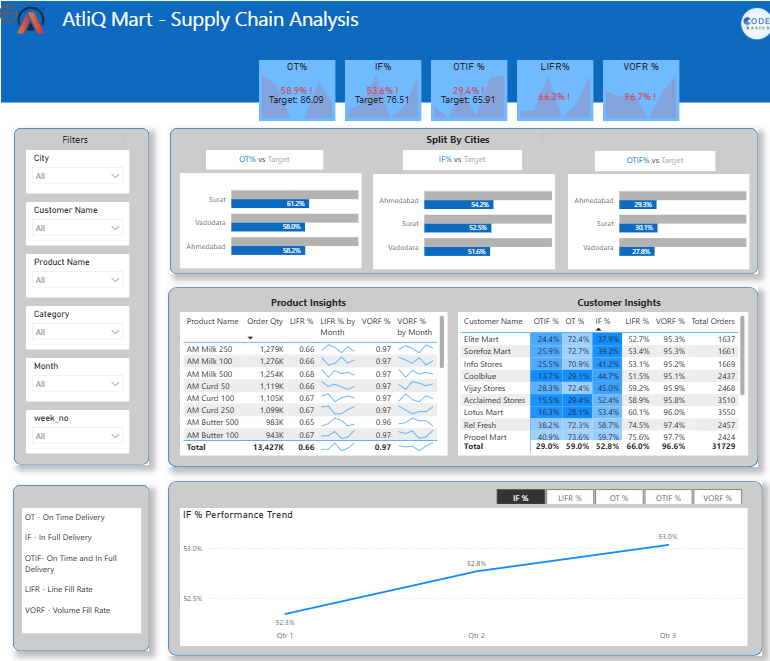

The dashboard page shown, as its layout file describes it:
{"tool":"powerbi","page":{"name":"Page 1","canvas":[1280,1080],"ordinal":0},"visuals":[{"type":"shape","box":[8.9,0,1271.1,165.8],"z":0},{"type":"shape","box":[285,208.5,962.2,239.3],"z":1000},{"type":"shape","box":[29.8,208.5,221.4,551.1],"z":2000},{"type":"shape","box":[281,467.7,966.2,294.9],"z":3000},{"type":"shape","box":[281,785.5,973.2,286],"z":4000},{"type":"actionButton","box":[0,0,100,40],"z":5000},{"type":"kpi","title":"IF%","fields":{"Indicator":["measures (2).In_Full_Order %"],"Goal":["measures (2).In_Full_Order_Target %"],"TrendLine":["dim_date.mmm_yy"]},"box":[570.8,97.3,125,100],"z":6000},{"type":"kpi","title":"OT%","fields":{"Indicator":["measures (2).On_Time_Orders %"],"Goal":["measures (2).On_Time_Order_Target %"],"TrendLine":["dim_date.mmm_yy"]},"box":[430,96.3,125.1,100.3],"z":7000},{"type":"kpi","title":"OTIF % ","fields":{"Indicator":["measures (2).OTIF %"],"Goal":["measures (2).OTIF_Target%"],"TrendLine":["dim_date.mmm_yy"]},"box":[711.6,97.3,125,100],"z":8000},{"type":"kpi","title":"LIFR%","fields":{"Indicator":["measures (2).Line_Fill_Rate%"],"Goal":["Sum(dim_targets_orders.infull_target%)"],"TrendLine":["dim_date.mmm_yy"]},"box":[852.3,97.3,125,100],"z":9000},{"type":"kpi","title":"VOFR %","fields":{"Indicator":["measures (2).Volume_Fill_Rate%"],"Goal":["measures (2).Total_Order_Qty"],"TrendLine":["dim_date.mmm_yy"]},"box":[993,97.3,125,100.3],"z":10000},{"type":"slicer","fields":{"Values":["dim_customers.city"]},"box":[49.7,243.3,168.8,71.5],"z":11000},{"type":"slicer","fields":{"Values":["dim_customers.customer_name"]},"box":[49.7,328.7,168.8,71.5],"z":12000},{"type":"clusteredBarChart","title":"OT% VS Target","fields":{"Category":["dim_customers.city"],"Y":["measures (2).On_Time_Order_Target %","measures (2).On_Time_Orders %"]},"box":[300.9,282,297,156],"z":13000},{"type":"textbox","box":[343.6,243.6,191.7,31.8],"z":14000,"group":"g1"},{"type":"tableEx","fields":{"Values":["dim_products.product_name","Sum(fact_order_lines.order_qty)","measures (2).Line_Fill_Rate%","SparklineData(measures (2).LIFR %_[dim_date.date.Variation.Date Hierarchy.Month])","measures (2).Volume_Fill_Rate%","SparklineData(measures (2).VORF %_[dim_date.date.Variation.Date Hierarchy.Month])"]},"box":[300.9,508.4,437.9,235.3],"z":14000},{"type":"clusteredBarChart","title":"IF% VS Target","fields":{"Category":["dim_customers.city"],"Y":["measures (2).In_Full_Order_Target %","measures (2).In_Full_Order %"]},"box":[617.7,282.9,297.9,156],"z":15000,"group":"g1"},{"type":"textbox","box":[432,477.6,157.9,30.8],"z":15000},{"type":"textbox","box":[666.3,243.6,194.6,32.8],"z":16000,"group":"g1"},{"type":"pivotTable","fields":{"Rows":["dim_customers.customer_name"],"Values":["measures (2).OTIF %","measures (2).OT %","measures (2).IF %","measures (2).LIFR %","measures (2).VORF %","measures (2).Total Orders"]},"box":[755.7,508.4,474.7,235.3],"z":16000},{"type":"clusteredBarChart","title":"IF% VS Target","fields":{"Category":["dim_customers.city"],"Y":["measures (2).OTIF_Target%","measures (2).OTIF %"]},"box":[935.9,283.7,296.9,155.9],"z":17000,"group":"g1"},{"type":"textbox","box":[942.4,477.6,153.9,30.8],"z":17000},{"type":"textbox","box":[979.5,245,196.6,32.8],"z":18000,"group":"g1"},{"type":"lineChart","fields":{"Category":["dim_date.date.Variation.Date Hierarchy.Quarter"],"Y":["measures (2).Selected KPI"],"Series":["KPI Table.Metric"]},"box":[300.9,829.2,929.5,226.4],"z":18000},{"type":"slicer","fields":{"Values":["KPI Table.Metric"]},"box":[794.4,791.4,450.8,30.8],"z":19000},{"type":"slicer","fields":{"Values":["dim_products.product_name"]},"box":[49.7,414.1,168.8,71],"z":20000},{"type":"group","id":"g1","title":"Group 1","box":[343.6,243.6,889.2,196],"z":21000},{"type":"textbox","box":[100.3,2,502.5,59.6],"z":22000},{"type":"textbox","box":[49.7,211.5,168.8,28.8],"z":23000},{"type":"slicer","fields":{"Values":["dim_date.mmm_yy.Variation.Date Hierarchy.Month"]},"box":[49.7,584.4,168.8,71],"z":24000},{"type":"slicer","fields":{"Values":["dim_date.week_no"]},"box":[49.7,669.3,168.8,71],"z":25000},{"type":"image","box":[29.8,2,55.6,59.6],"z":26000},{"type":"image","box":[1211.5,2,68.5,70.5],"z":27000},{"type":"shape","box":[27.8,791.4,223.4,272.1],"z":28000},{"type":"textbox","box":[42.7,829.2,194.6,204.6],"z":29000},{"type":"textbox","box":[617.7,211.5,286,28.8],"z":30000},{"type":"slicer","fields":{"Values":["dim_products.category"]},"box":[49.7,499,168.8,71.5],"z":31000}]}

Visuals, with their boxes in screenshot pixels (x1, y1, x2, y2), scaled from the page's 1280x1080 canvas onto the 770x661 screenshot:
shape: [5,0,769,101]
shape: [171,128,750,274]
shape: [18,128,151,465]
shape: [169,286,750,467]
shape: [169,481,754,656]
actionButton: [0,0,60,24]
"IF%" kpi: [343,60,419,121]
"OT%" kpi: [259,59,334,120]
"OTIF % " kpi: [428,60,503,121]
"LIFR%" kpi: [513,60,588,121]
"VOFR %" kpi: [597,60,673,121]
slicer - dim_customers.city: [30,149,131,193]
slicer - dim_customers.customer_name: [30,201,131,245]
"OT% VS Target" clusteredBarChart: [181,173,360,268]
textbox: [207,149,322,169]
tableEx - dim_products.product_name x Sum(fact_order_lines.order_qty): [181,311,444,455]
"IF% VS Target" clusteredBarChart: [372,173,551,269]
textbox: [260,292,355,311]
textbox: [401,149,518,169]
pivotTable - dim_customers.customer_name x measures (2).OTIF %: [455,311,740,455]
"IF% VS Target" clusteredBarChart: [563,174,742,269]
textbox: [567,292,659,311]
textbox: [589,150,707,170]
lineChart - dim_date.date.Variation.Date Hierarchy.Quarter x measures (2).Selected KPI: [181,508,740,646]
slicer - KPI Table.Metric: [478,484,749,503]
slicer - dim_products.product_name: [30,253,131,297]
"Group 1" group: [207,149,742,269]
textbox: [60,1,363,38]
textbox: [30,129,131,147]
slicer - dim_date.mmm_yy.Variation.Date Hierarchy.Month: [30,358,131,401]
slicer - dim_date.week_no: [30,410,131,453]
image: [18,1,51,38]
image: [729,1,769,44]
shape: [17,484,151,651]
textbox: [26,508,143,633]
textbox: [372,129,544,147]
slicer - dim_products.category: [30,305,131,349]
